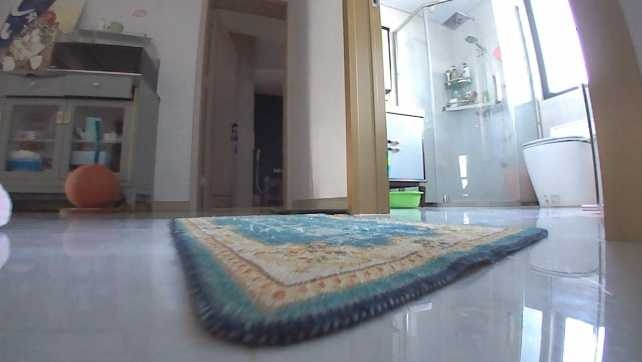blanket: (166, 206, 547, 350)
door_anno: (199, 9, 243, 207)
toilet: (522, 115, 601, 210)
